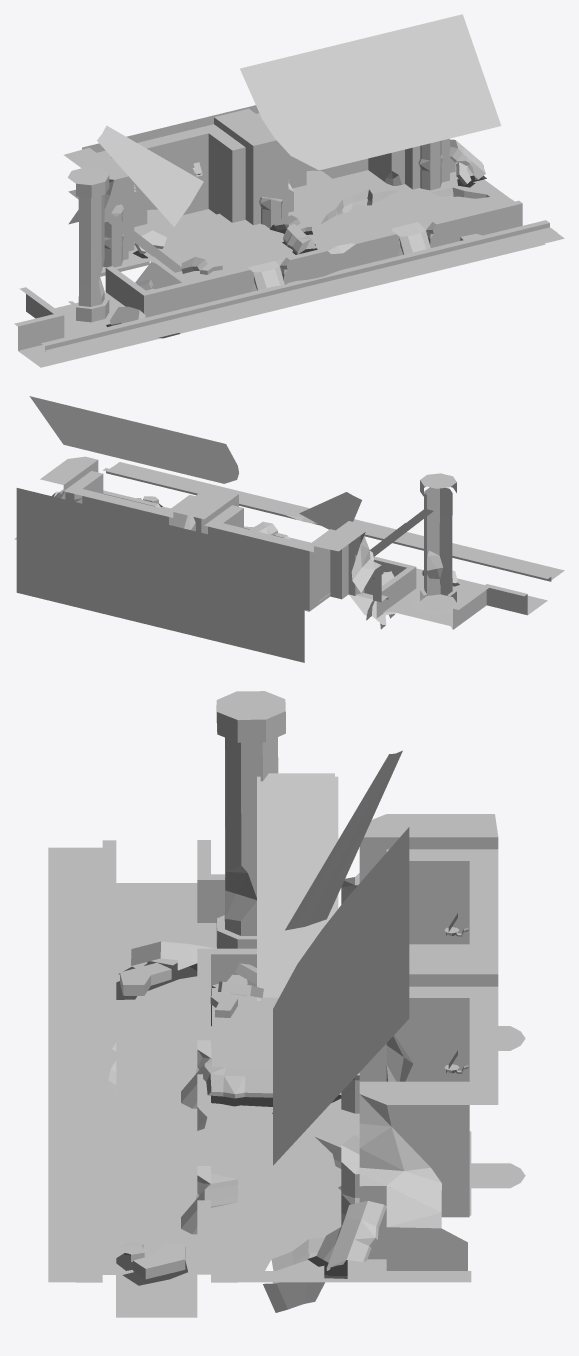
Rendered from NCASTLE1-1-2.obj.
3 renders of one model, top to bottom at view 1: azimuth 30°, elevation 25°; view 2: azimuth 150°, elevation 25°; view 3: azimuth 270°, elevation 25°, orthographic. The views are drawn at different scales.
Visible parts, largest first — view 1: in39_ray03_lay0_QUADS_VisGroup0, n_kabe3_lay0_QUADS_VisGroup0, n_kon2_lay0_QUADS_VisGroup0, n_yuka1_lay0_QUADS_VisGroup0, n_fuch3_lay0_QUADS_VisGroup0, in39_ray02_lay0_QUADS_VisGroup0, n_04_2_lay0_QUADS_VisGroup0, n_kon_lay0_QUADS_VisGroup0, n_colum_a_lay0_QUADS_VisGroup0, in39_yuka3_lay0_QUADS_VisGroup0, n_kabe3_lay0_TRIS_VisGroup0, n_kabe_lay0_QUADS_VisGroup0 (+12 smaller); view 2: n_kabe3_lay0_QUADS_VisGroup0, in39_ray03_lay0_QUADS_VisGroup0, n_04_2_lay0_QUADS_VisGroup0, n_kon2_lay0_QUADS_VisGroup0, n_colum_a_lay0_QUADS_VisGroup0, n_yuka1_lay0_QUADS_VisGroup0, n_kon_lay0_QUADS_VisGroup0, in39_yuka3_lay0_QUADS_VisGroup0, n_kabe_lay0_QUADS_VisGroup0, n_fuch3_lay0_QUADS_VisGroup0, n_04_2_lay0_TRIS_VisGroup0, n_kabe3_lay0_TRIS_VisGroup0 (+4 smaller); view 3: n_04_2_lay0_QUADS_VisGroup0, in39_ray03_lay0_QUADS_VisGroup0, n_kabe3_lay0_QUADS_VisGroup0, n_yuka1_lay0_QUADS_VisGroup0, n_fuch3_lay0_QUADS_VisGroup0, in39_kaidan2_lay0_QUADS_VisGroup0, n_kon_lay0_QUADS_VisGroup0, n_kabe3_lay0_TRIS_VisGroup0, in39_yuka3_lay0_QUADS_VisGroup0, n_colum_a_lay0_QUADS_VisGroup0, in39_yuka3_lay0_TRIS_VisGroup0, n_yuka1_lay0_TRIS_VisGroup0 (+11 smaller).
Boxes of the visible parts, x1,y1,x2,y2 form: in39_ray03_lay0_QUADS_VisGroup0: (97,14,501,226); n_kabe3_lay0_QUADS_VisGroup0: (64,105,485,286); n_kon2_lay0_QUADS_VisGroup0: (18,203,549,351); n_yuka1_lay0_QUADS_VisGroup0: (52,178,564,361); n_fuch3_lay0_QUADS_VisGroup0: (45,162,557,355); in39_ray02_lay0_QUADS_VisGroup0: (134,213,294,282); n_04_2_lay0_QUADS_VisGroup0: (18,108,545,367); n_kon_lay0_QUADS_VisGroup0: (14,200,549,345); n_colum_a_lay0_QUADS_VisGroup0: (68,175,109,322); in39_yuka3_lay0_QUADS_VisGroup0: (68,140,474,297); n_kabe3_lay0_TRIS_VisGroup0: (104,141,485,291); n_kabe_lay0_QUADS_VisGroup0: (111,133,368,226); n_kabe3_lay0_QUADS_VisGroup0: (16,456,394,662); in39_ray03_lay0_QUADS_VisGroup0: (29,396,361,530); n_04_2_lay0_QUADS_VisGroup0: (63,465,547,625); n_kon2_lay0_QUADS_VisGroup0: (103,471,551,629); n_colum_a_lay0_QUADS_VisGroup0: (420,480,456,602); n_yuka1_lay0_QUADS_VisGroup0: (113,462,564,575); n_kon_lay0_QUADS_VisGroup0: (102,468,550,615); in39_yuka3_lay0_QUADS_VisGroup0: (40,459,443,617); n_kabe_lay0_QUADS_VisGroup0: (82,496,309,611); n_fuch3_lay0_QUADS_VisGroup0: (14,466,557,610); n_04_2_lay0_TRIS_VisGroup0: (64,484,452,629); n_kabe3_lay0_TRIS_VisGroup0: (72,460,387,611); n_04_2_lay0_QUADS_VisGroup0: (116,837,498,1317); in39_ray03_lay0_QUADS_VisGroup0: (273,750,409,1165); n_kabe3_lay0_QUADS_VisGroup0: (208,814,498,1270); n_yuka1_lay0_QUADS_VisGroup0: (48,847,359,1282); n_fuch3_lay0_QUADS_VisGroup0: (75,847,471,1282); in39_kaidan2_lay0_QUADS_VisGroup0: (257,773,338,1000); n_kon_lay0_QUADS_VisGroup0: (102,840,256,1274); n_kabe3_lay0_TRIS_VisGroup0: (205,832,469,1268); in39_yuka3_lay0_QUADS_VisGroup0: (108,862,498,1262); n_colum_a_lay0_QUADS_VisGroup0: (216,705,285,948); in39_yuka3_lay0_TRIS_VisGroup0: (109,865,441,1241); n_yuka1_lay0_TRIS_VisGroup0: (262,1131,359,1282).
Size of the model in its own units: 611 by 222 by 285.
